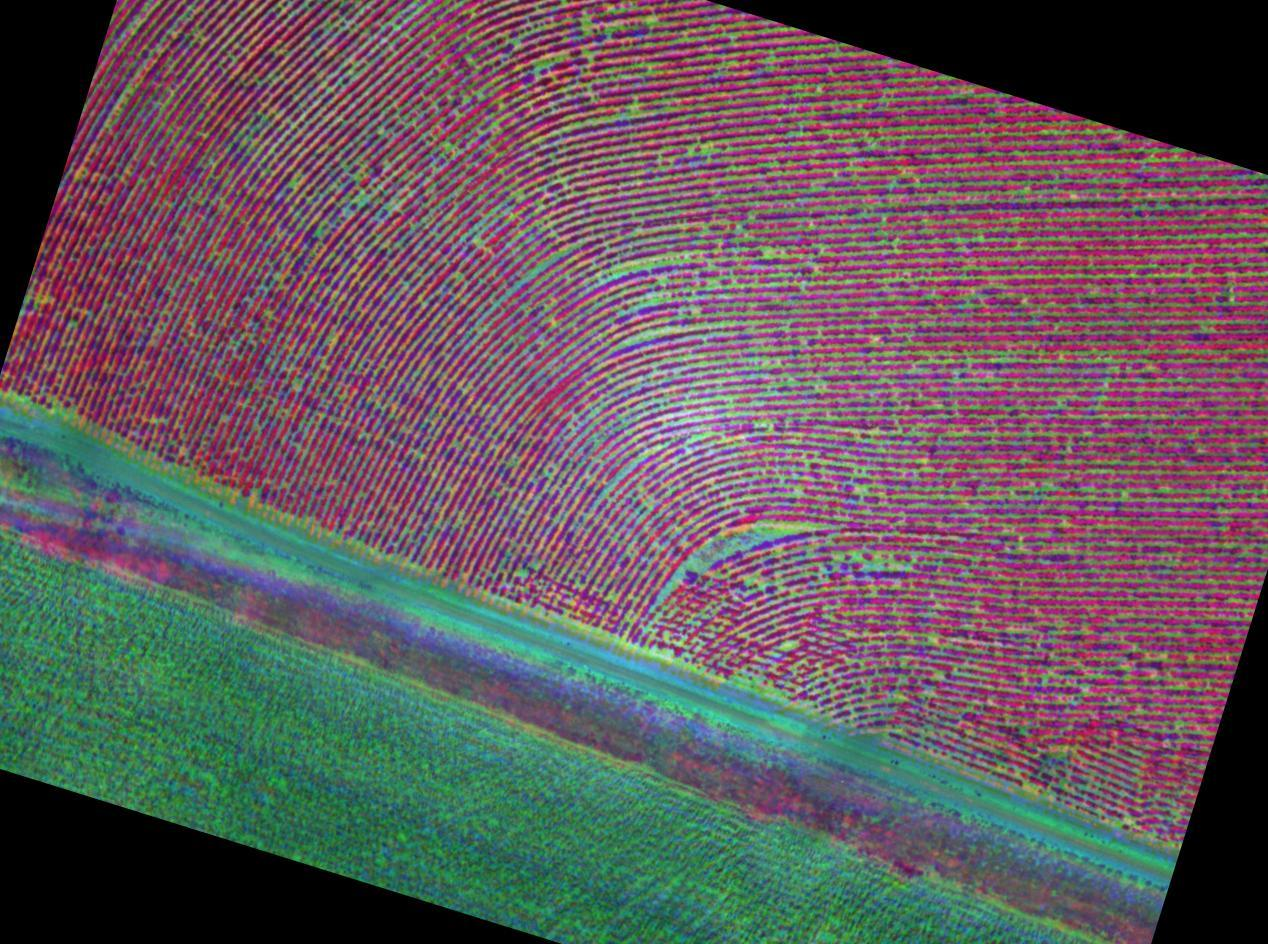dc: (448, 10, 700, 137), (613, 238, 727, 361), (218, 103, 364, 198), (683, 505, 817, 593), (766, 333, 842, 443), (838, 530, 917, 602)
